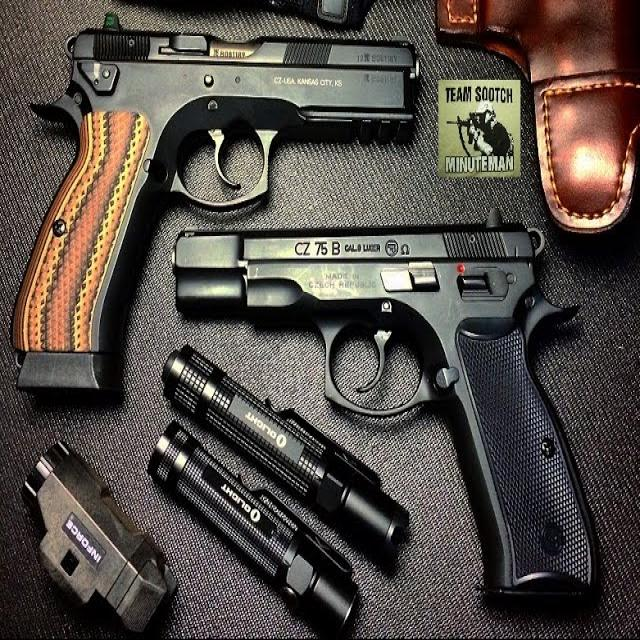HandGun: (172, 212, 592, 599), (12, 13, 417, 395)
